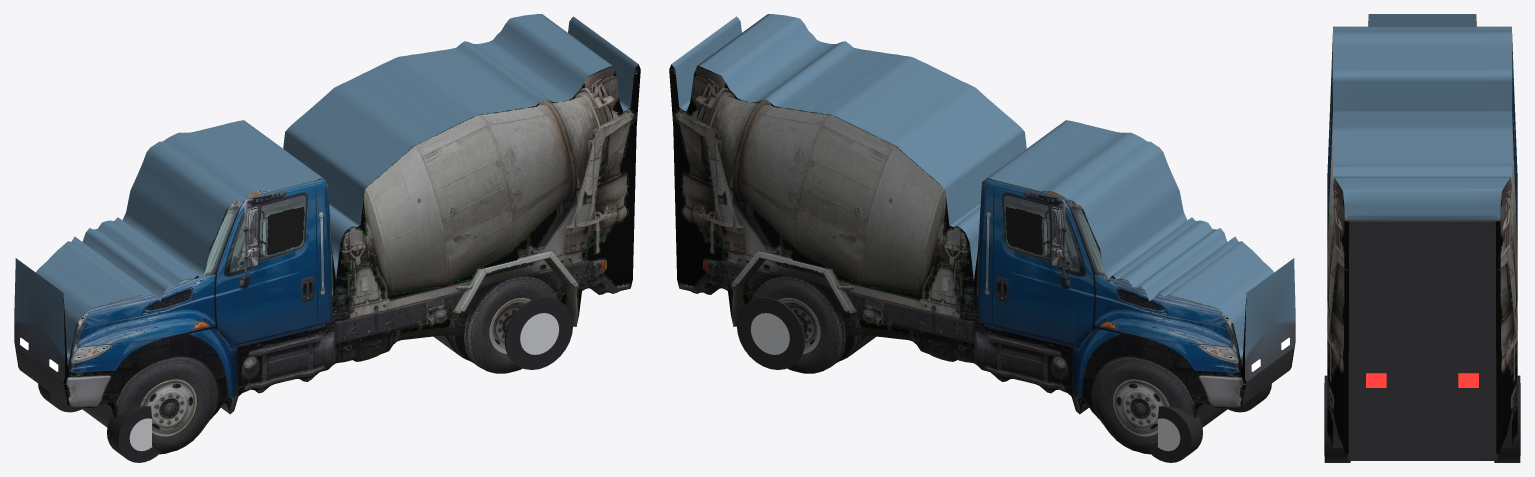
The model's file is mixer.glb.
3 views of the same model, side by side, from view 1: azimuth 30°, elevation 25°; view 2: azimuth 150°, elevation 25°; view 3: azimuth 270°, elevation 25° (orthographic). The views are drawn at different scales.
Parts seen in each view (by area): view 1: mixer; view 2: mixer; view 3: mixer.
Boxes of the visible parts, x1,y1,x2,y2 form: mixer: (14, 14, 640, 462); mixer: (669, 14, 1295, 462); mixer: (1324, 14, 1520, 462).
Bounding box in the file's own units: 6.83 × 3.19 × 1.82.
8 materials, 2 textured.
